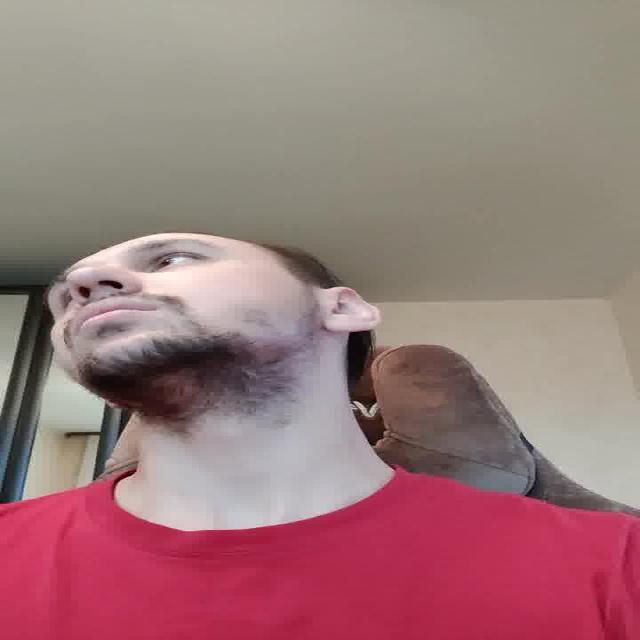earlobe: (322, 319, 374, 334), (100, 398, 132, 411)
eye: (142, 252, 208, 272), (58, 291, 79, 313)
nose: (67, 288, 145, 306)
wholeear: (316, 284, 381, 335)
